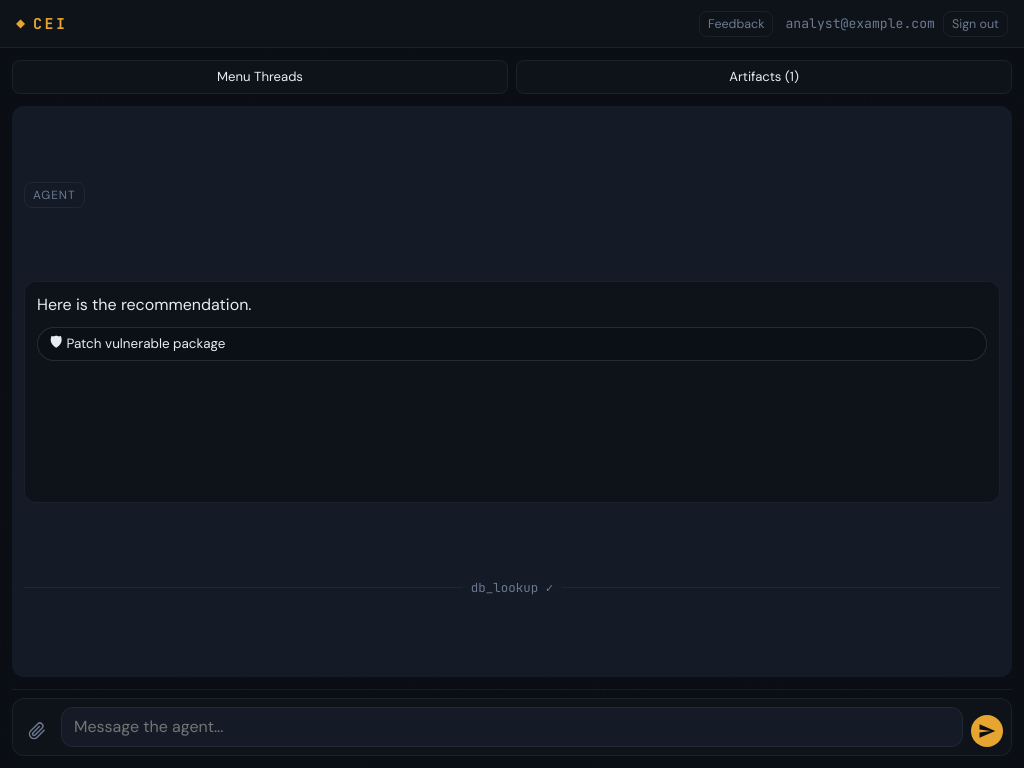
Test: CommandCenter compact layout › opens the thread drawer through compact controls
Click the button "Menu Threads" at (260, 77), box 12,60 -> 508,94
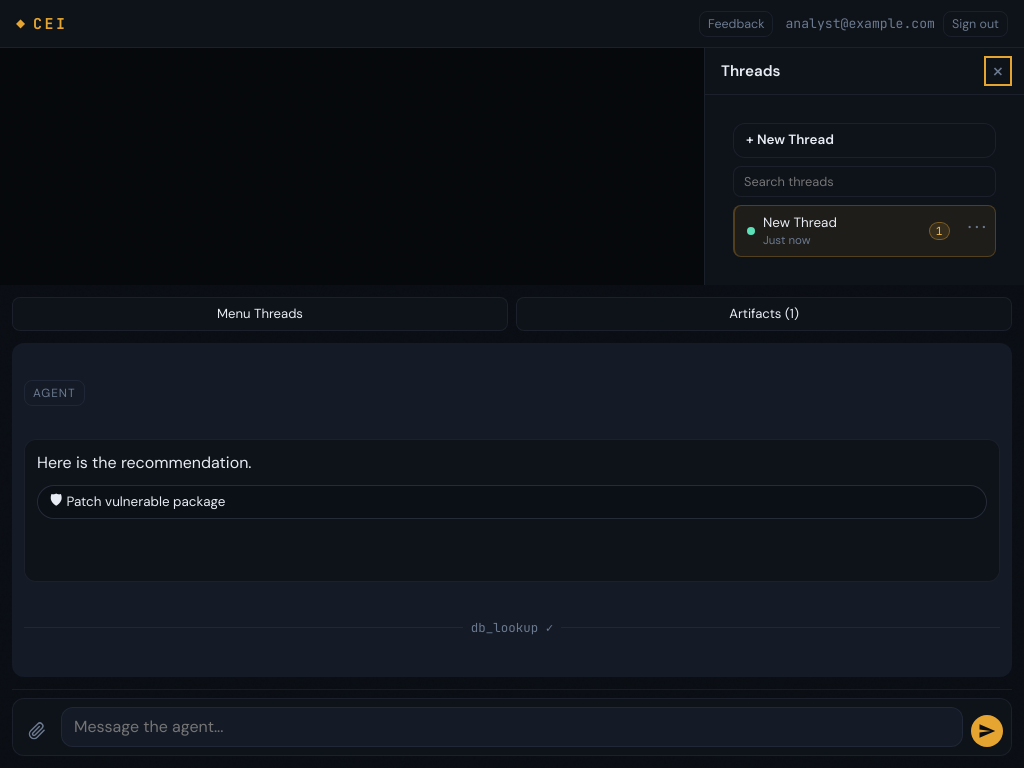
Check: the button with aria-label "Create New Thread" is shown, box 733,123 -> 996,158
Check: the search field with placeholder "Search threads" is shown, box 733,166 -> 996,197
